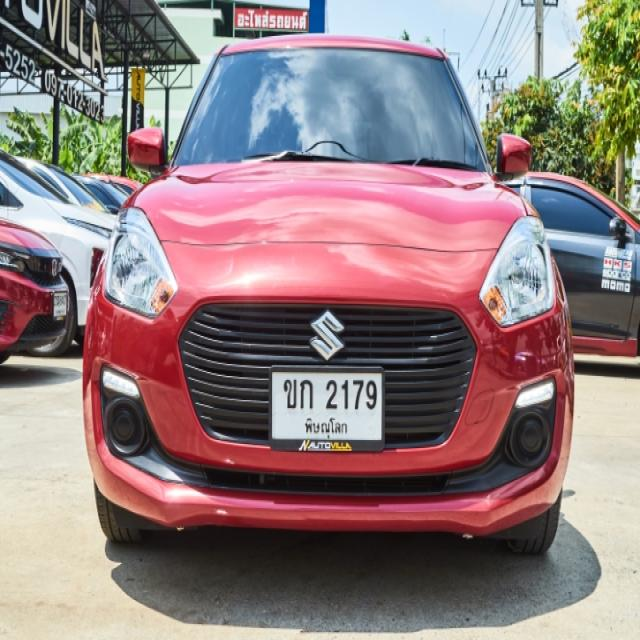license_plate: (268, 362, 384, 451), (49, 289, 70, 322)
